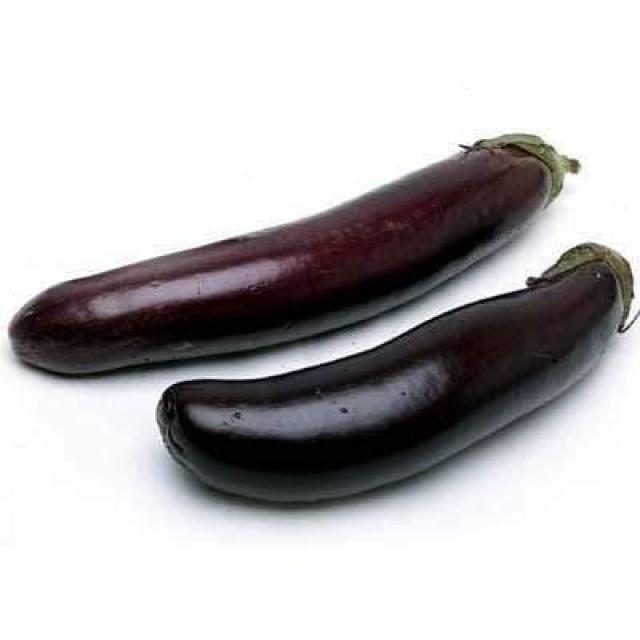eggplant: (6, 133, 578, 371), (154, 243, 632, 501)
